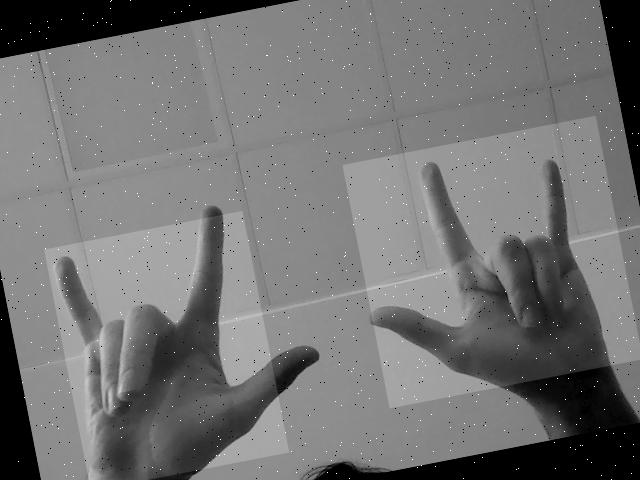I_Love_You: (342, 115, 640, 407), (43, 210, 288, 480)
